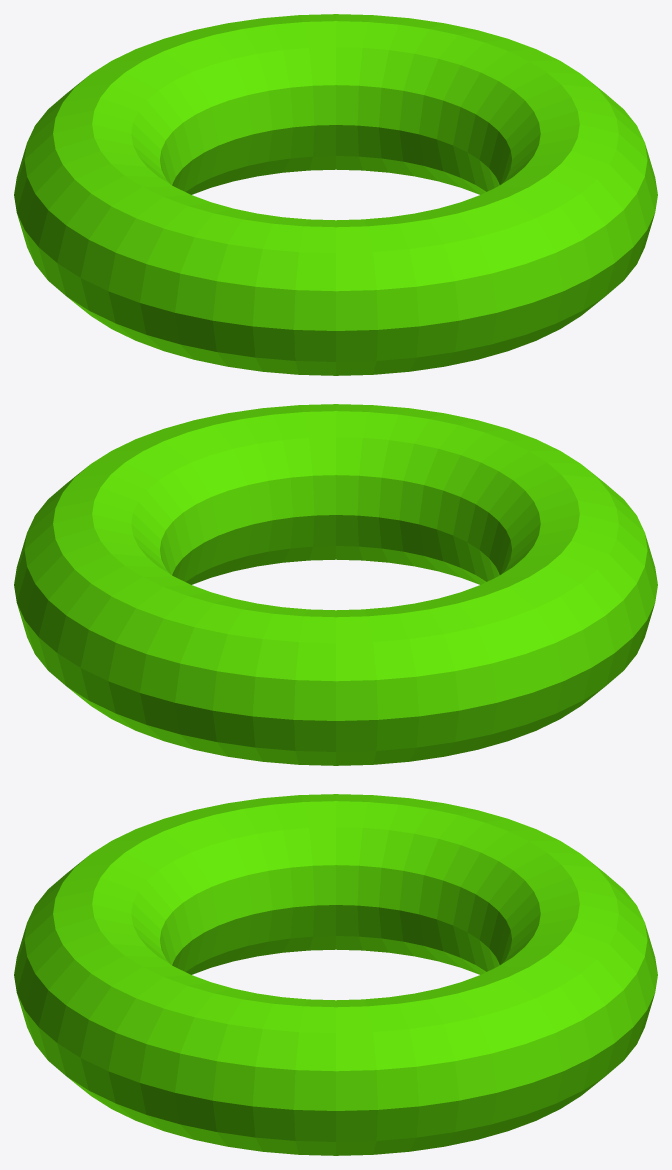
Rendered from Torus_Green_v1.glb.
3 renders of one model, top to bottom at view 1: azimuth 30°, elevation 25°; view 2: azimuth 150°, elevation 25°; view 3: azimuth 270°, elevation 25°, orthographic.
Parts seen in each view (by area): view 1: Torus; view 2: Torus; view 3: Torus.
Part boxes in pixels (<box>): Torus: <box>14,14,657,375</box>; Torus: <box>14,404,657,765</box>; Torus: <box>14,794,657,1155</box>.
Bounding box in the file's own units: 2.06 × 0.5 × 2.06.
